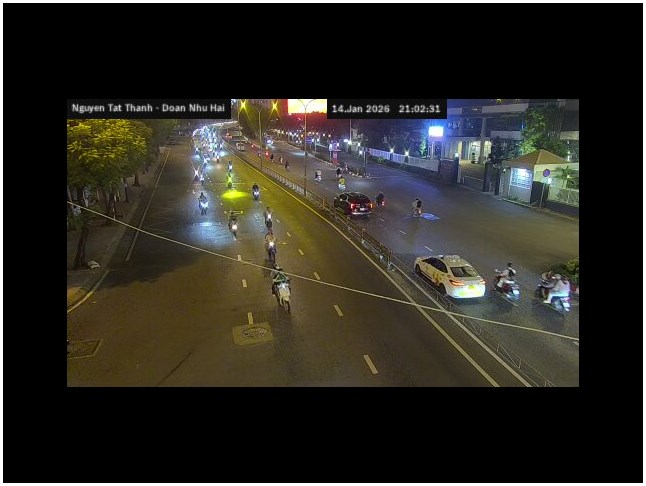car: (414, 254, 487, 300), (334, 191, 374, 216), (344, 192, 374, 216)
